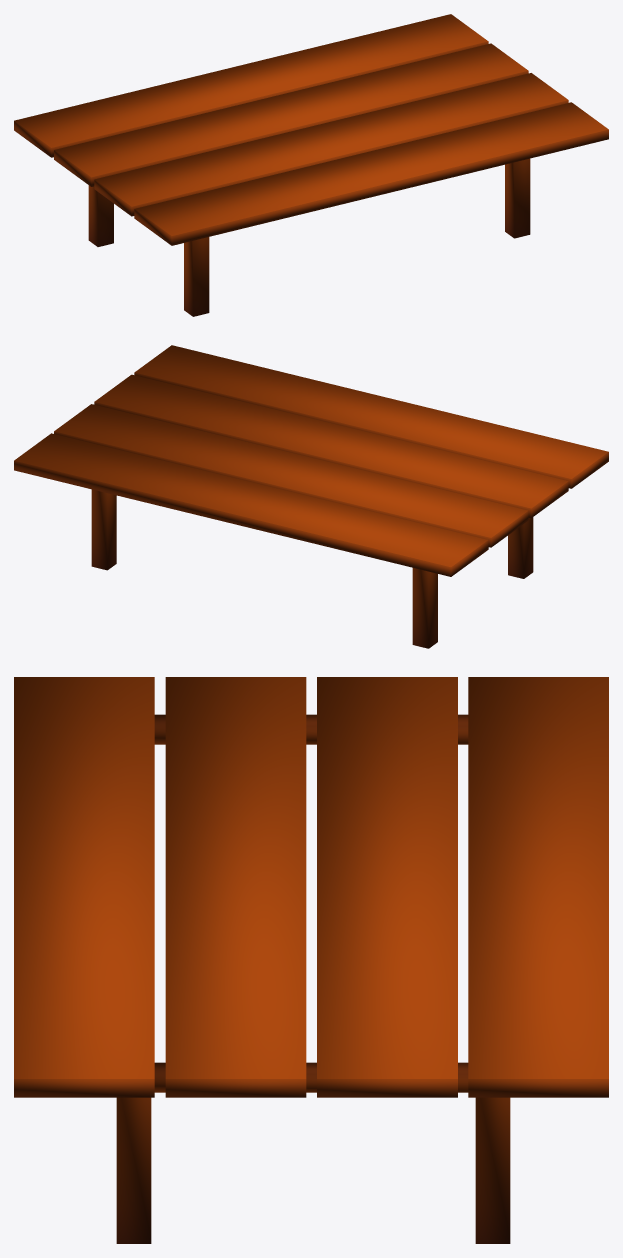
The model's file is MesaPiquenique.fbx.
The picture shows the model from 3 angles, top to bottom: view 1: azimuth 30°, elevation 25°; view 2: azimuth 150°, elevation 25°; view 3: azimuth 270°, elevation 25°; orthographic projection. The views are drawn at different scales.
Visible parts, largest first — view 1: MesaTabuas; view 2: MesaTabuas; view 3: MesaTabuas.
Boxes of the visible parts, x1=… form: MesaTabuas: x1=14, y1=14, x2=608, y2=316; MesaTabuas: x1=14, y1=345, x2=608, y2=648; MesaTabuas: x1=14, y1=677, x2=608, y2=1243.
Bounding box in the file's own units: 214 × 52.55 × 134.
